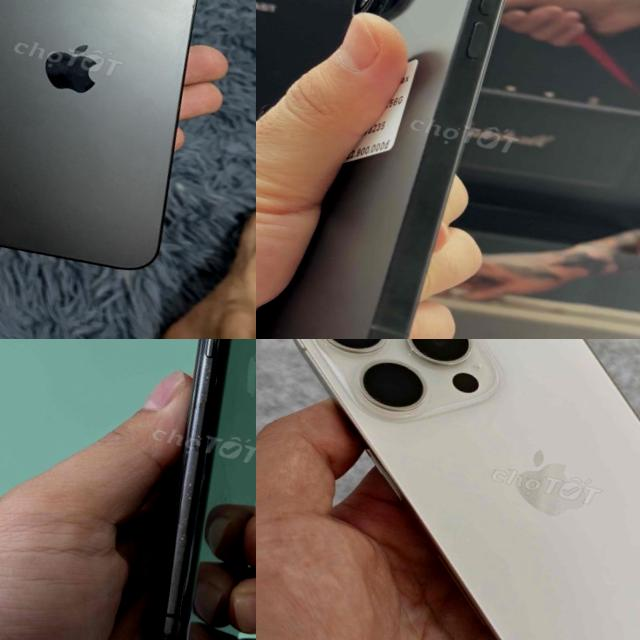gen_15: (256, 339, 640, 640), (0, 0, 256, 301)
gen_16: (256, 0, 502, 339)
gen_x_xs: (155, 339, 256, 640)
scratch: (148, 359, 240, 555)
